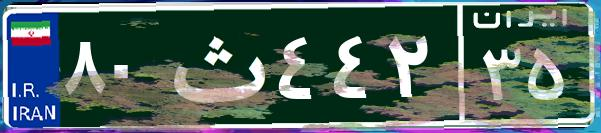0: (110, 28, 158, 105)
2: (385, 28, 445, 110)
3: (475, 38, 525, 113)
4: (273, 28, 330, 110), (330, 28, 385, 110)
5: (525, 38, 570, 115)
8: (57, 26, 110, 107)
ث: (158, 15, 273, 115)
